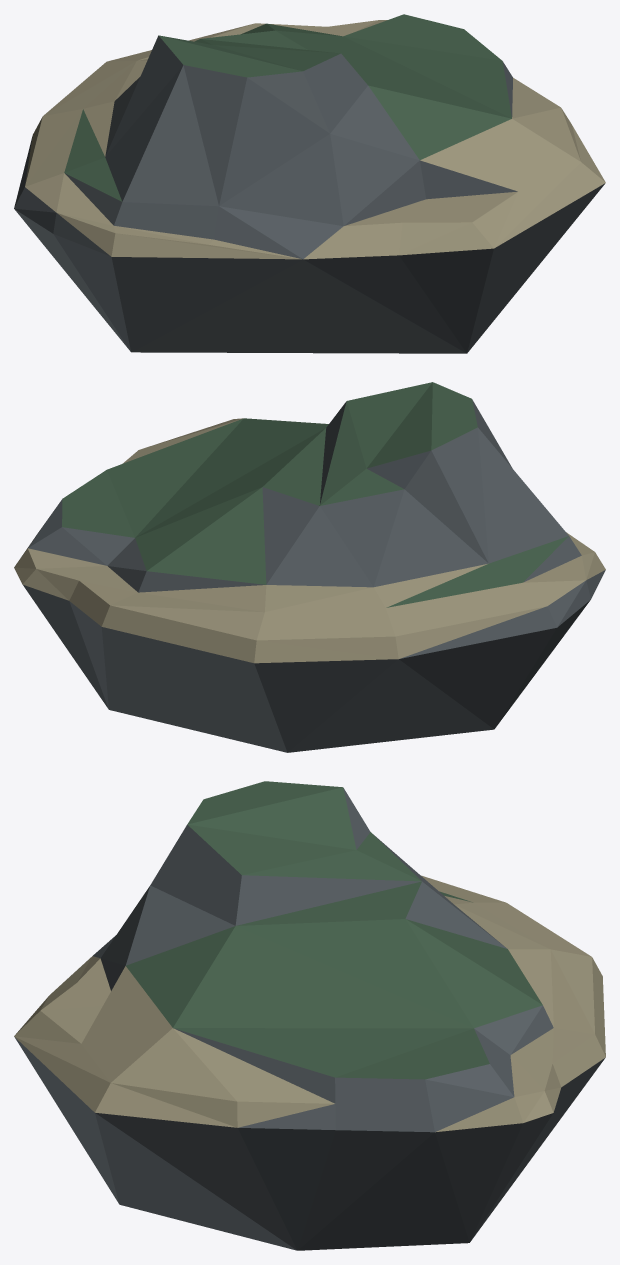
Rendered from island_3.fbx.
3 renders of one model, top to bottom at view 1: azimuth 30°, elevation 25°; view 2: azimuth 150°, elevation 25°; view 3: azimuth 270°, elevation 25°, orthographic. The views are drawn at different scales.
Visible parts, largest first — view 1: polySurface1; view 2: polySurface1; view 3: polySurface1.
Boxes of the visible parts, box(x1,y1,x2,y2) form: polySurface1: box(14, 14, 605, 353); polySurface1: box(14, 382, 605, 752); polySurface1: box(14, 781, 605, 1250).
Bounding box in the file's own units: 24.69 × 13.77 × 23.56.
